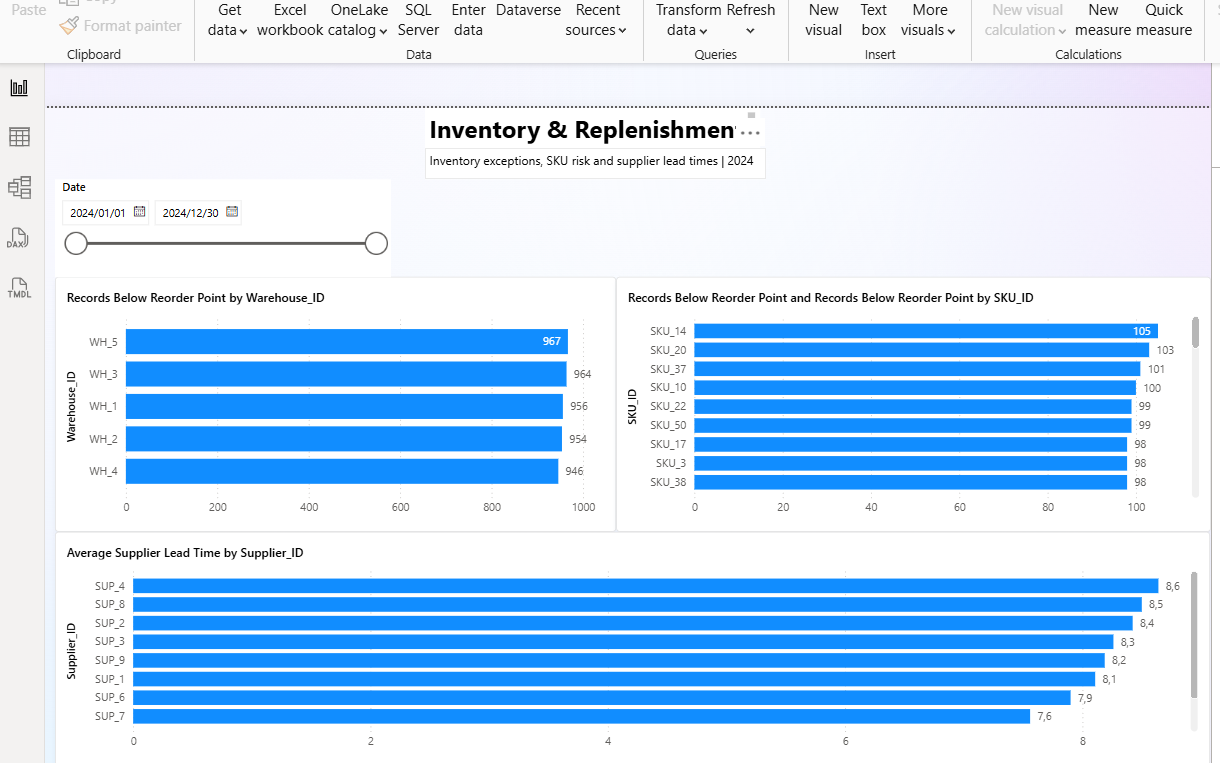

This screenshot's page, from the dashboard's own definition file:
{"tool":"powerbi","page":{"name":"Inventory & Replenishment","canvas":[1280,720],"ordinal":1},"visuals":[{"type":"clusteredBarChart","fields":{"Category":["SupplyChain_Staging.Warehouse_ID"],"Y":["SupplyChain_Staging.Records Below Reorder Point"]},"box":[11,185.2,616.1,279.9],"z":0},{"type":"clusteredBarChart","fields":{"Category":["SupplyChain_Staging.SKU_ID"],"Y":["SupplyChain_Staging.Records Below Reorder Point","SupplyChain_Staging.Records Below Reorder Point"]},"box":[627.1,185.2,653.2,279.9],"z":1},{"type":"clusteredBarChart","fields":{"Category":["SupplyChain_Staging.Supplier_ID"],"Y":["SupplyChain_Staging.Average Supplier Lead Time"]},"box":[11,465.2,1267.9,256.6],"z":2},{"type":"slicer","fields":{"Values":["DateTable.Date"]},"box":[11,78.2,369.1,107],"z":3},{"type":"textbox","box":[417.2,0,367.8,43.9],"z":4},{"type":"textbox","box":[417.2,43.9,374.6,34.3],"z":5}]}

Visuals, with their boxes on the page's 1280x720 design canvas (x1, y1, x2, y2). These are canvas units, not pixel positions in the 1220x763 screenshot, which may show the page scaled, cropped or inside an application window:
clusteredBarChart - SupplyChain_Staging.Warehouse_ID x SupplyChain_Staging.Records Below Reorder Point: bbox=(11, 185, 627, 465)
clusteredBarChart - SupplyChain_Staging.SKU_ID x SupplyChain_Staging.Records Below Reorder Point: bbox=(627, 185, 1280, 465)
clusteredBarChart - SupplyChain_Staging.Supplier_ID x SupplyChain_Staging.Average Supplier Lead Time: bbox=(11, 465, 1279, 722)
slicer - DateTable.Date: bbox=(11, 78, 380, 185)
textbox: bbox=(417, 0, 785, 44)
textbox: bbox=(417, 44, 792, 78)
